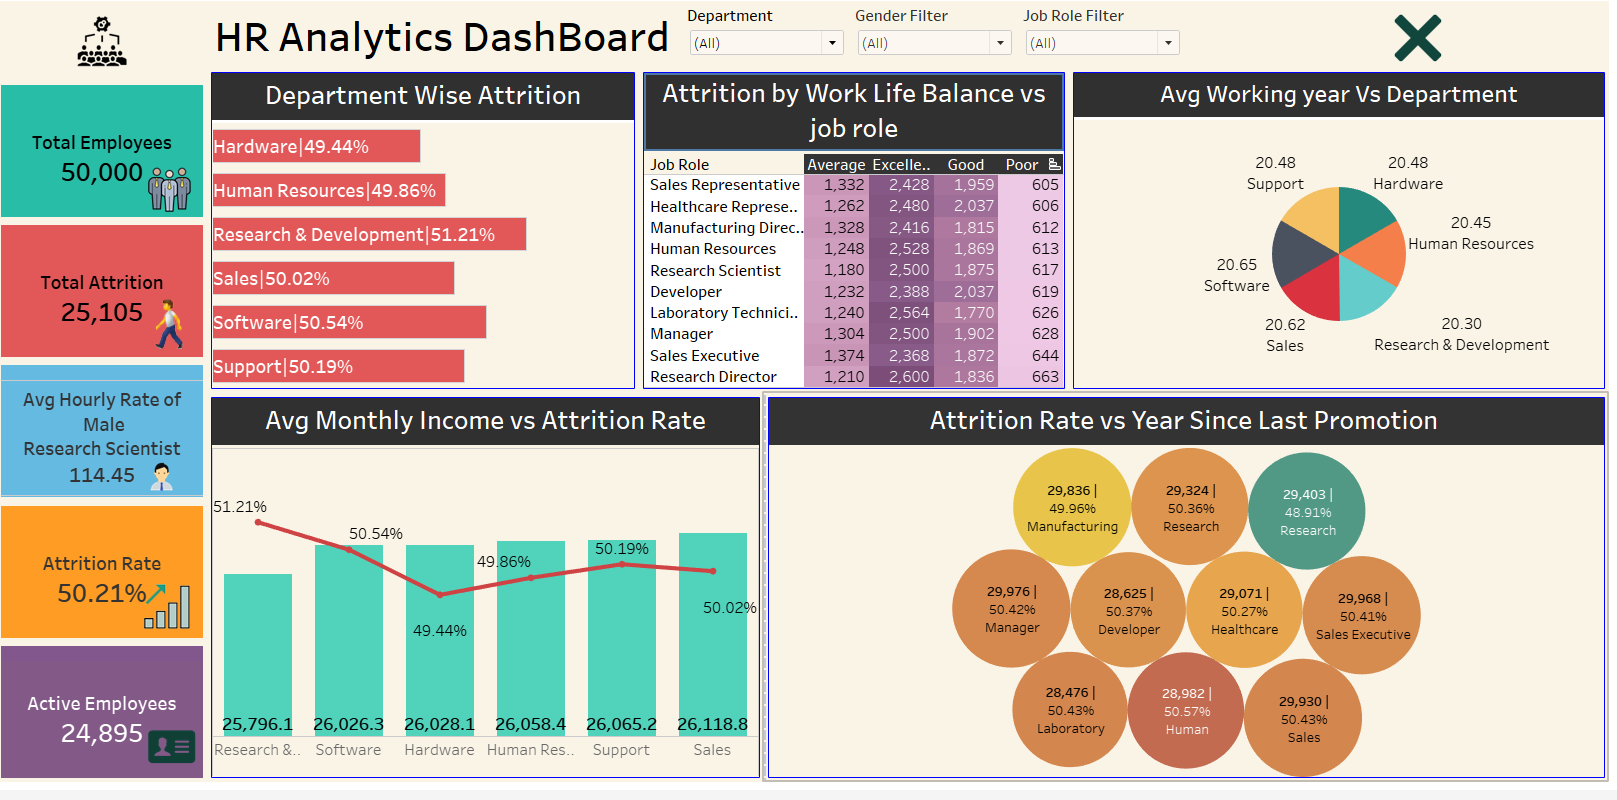

The dashboard page shown, as its layout file describes it:
{"tool":"tableau","page":{"name":"Dashboard  Final ","canvas":[1000,1000],"units":"permille","ordinal":0},"visuals":[{"type":"image","param":"Image/icons8-hr-100.png","box":[5.9,11.9,128.9,119.4]},{"type":"text","box":[134.8,11.9,291.5,83.7]},{"type":"filter","title":"Department Wise Attrition","param":"[federated.0lci1cj120clis10acsrt0l4f8n5].[none:Department:nk]","box":[426.2,11.9,123.5,83.7]},{"type":"filter","title":"Avg Working year Vs Department","param":"[federated.0lci1cj120clis10acsrt0l4f8n5].[none:Gender (copy)_1514616868128595968","box":[549.8,11.9,123.5,83.7]},{"type":"filter","title":"Avg Working year Vs Department","param":"[federated.0lci1cj120clis10acsrt0l4f8n5].[none:Job Role (copy)_15146168681333473","box":[673.3,11.9,123.5,83.7]},{"type":"dashboard-object","box":[856.6,16.4,42.6,80.6]},{"type":"worksheet","title":"Department Wise Attrition","mark":"Automatic","rows":["Department"],"cols":["Calculation_1454662693148135430"],"box":[134.8,95.6,317.6,405.8]},{"type":"worksheet","title":"Attrition by Work Life Balance vs job role","mark":"Square","rows":["JobRole"],"cols":["Calculation_1756403868447064064"],"box":[452.4,95.6,316.2,405.8]},{"type":"worksheet","title":"Avg Working year Vs Department","mark":"Pie","box":[768.6,95.6,225.6,405.8]},{"type":"worksheet","title":"Total Employees","mark":"Automatic","box":[5.9,131.3,128.9,171.3]},{"type":"image","param":"Image/business-group.png","box":[94.1,211.9,33.8,71.6]},{"type":"worksheet","title":"Total Attrition","mark":"Automatic","box":[5.9,302.7,128.9,171.3]},{"type":"image","param":"Image/-person-walking.png","box":[94.9,382.1,36.8,65.7]},{"type":"worksheet","title":"Avg Hourly Rate of Male Research Scientist","mark":"Automatic","cols":["Gender"],"box":[5.9,474,128.9,171.3]},{"type":"worksheet","title":"Avg Monthly Income vs Attrition Rate","mark":"Bar","rows":["MonthlyIncome","Calculation_1454662693148135430"],"cols":["Department"],"box":[134.8,501.4,409.6,486.7]},{"type":"worksheet","title":"Attrition Rate vs Year Since Last Promotion ","mark":"Circle","box":[544.3,501.4,449.8,486.7]},{"type":"image","param":"Image/Employee.png","box":[95.6,586.6,33.1,41.8]},{"type":"worksheet","title":"Attrition Rate","mark":"Automatic","box":[5.9,645.4,128.9,171.3]},{"type":"image","param":"Image/positive-dynamic.png","box":[94.9,738.8,29.4,59.7]},{"type":"worksheet","title":"Active Employees","mark":"Automatic","box":[5.9,816.7,128.9,171.3]},{"type":"image","param":"Image/Active Employee.png","box":[96.3,913.4,35.3,64.2]}]}

Visuals, with their boxes on the dashboard's canvas, which has no fixed pixel size, in thousandths of its width and height (x1, y1, x2, y2). These are canvas units, not pixel positions in the 1617x800 screenshot, which may show the page scaled, cropped or inside an application window:
image: l=6, t=12, r=135, b=131
text: l=135, t=12, r=426, b=96
"Department Wise Attrition" filter: l=426, t=12, r=550, b=96
"Avg Working year Vs Department" filter: l=550, t=12, r=673, b=96
"Avg Working year Vs Department" filter: l=673, t=12, r=797, b=96
dashboard-object: l=857, t=16, r=899, b=97
"Department Wise Attrition" worksheet: l=135, t=96, r=452, b=501
"Attrition by Work Life Balance vs job role" worksheet (Square marks): l=452, t=96, r=769, b=501
"Avg Working year Vs Department" worksheet (Pie marks): l=769, t=96, r=994, b=501
"Total Employees" worksheet: l=6, t=131, r=135, b=303
image: l=94, t=212, r=128, b=284
"Total Attrition" worksheet: l=6, t=303, r=135, b=474
image: l=95, t=382, r=132, b=448
"Avg Hourly Rate of Male Research Scientist" worksheet: l=6, t=474, r=135, b=645
"Avg Monthly Income vs Attrition Rate" worksheet (Bar marks): l=135, t=501, r=544, b=988
"Attrition Rate vs Year Since Last Promotion " worksheet (Circle marks): l=544, t=501, r=994, b=988
image: l=96, t=587, r=129, b=628
"Attrition Rate" worksheet: l=6, t=645, r=135, b=817
image: l=95, t=739, r=124, b=798
"Active Employees" worksheet: l=6, t=817, r=135, b=988
image: l=96, t=913, r=132, b=978
